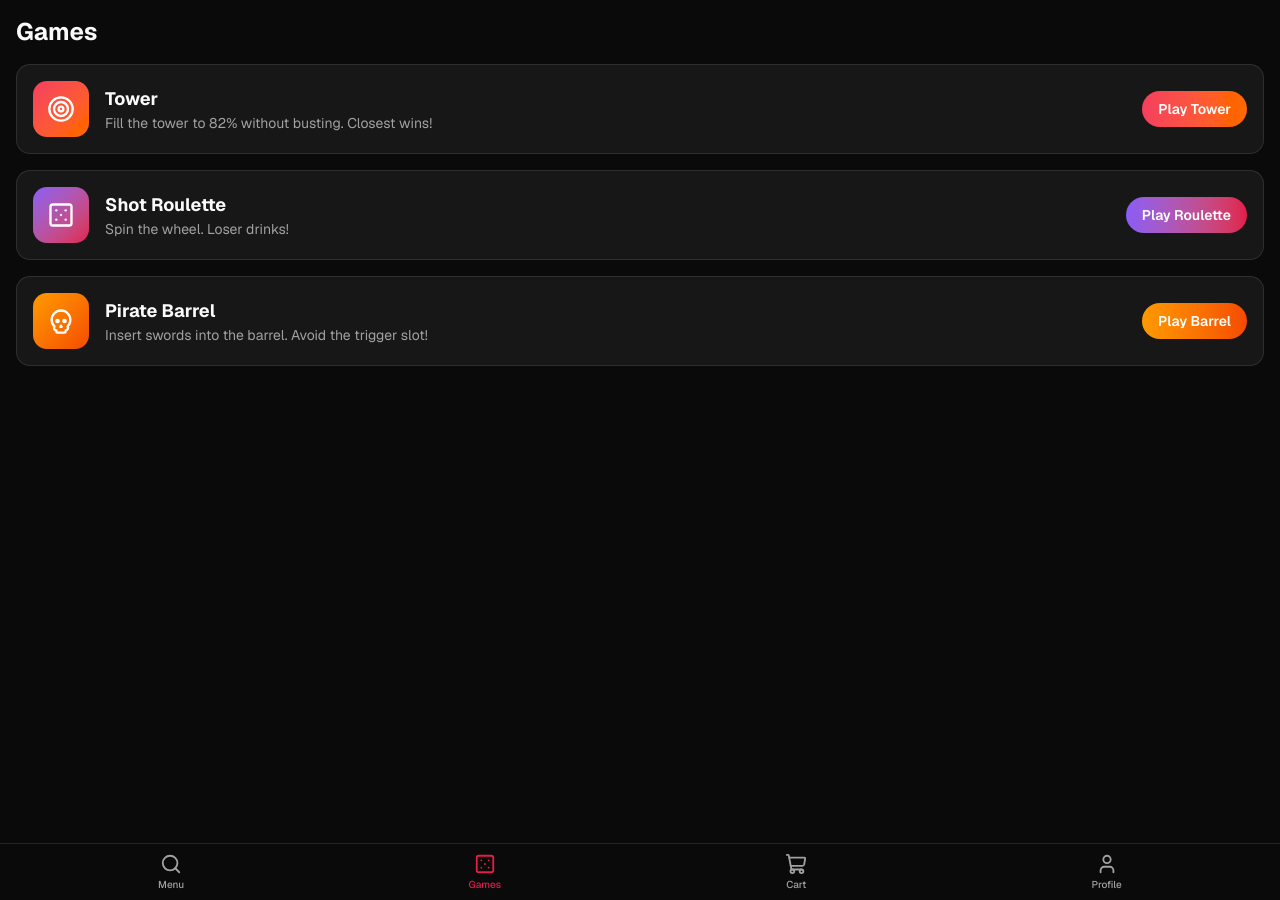
Test: opens bottom sheet and shows stepper
The image size is (1280, 900).
Click the text "Play Roulette" at {"x": 1186, "y": 215}, box [1126,197,1247,233]
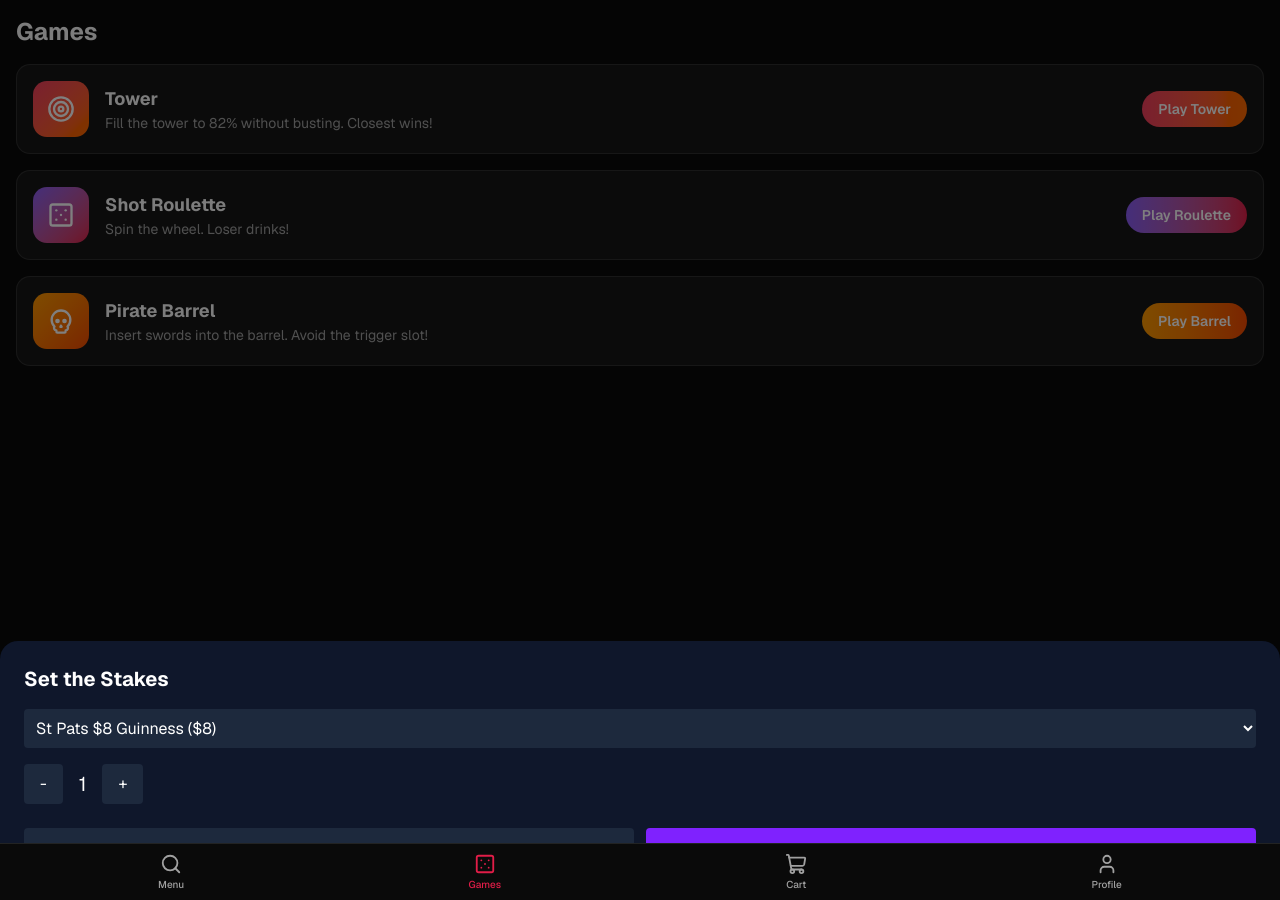
Result: the heading "Set the Stakes" is shown at [24,666,168,692]
Click the button "+" at {"x": 123, "y": 784}, box [102,764,143,804]
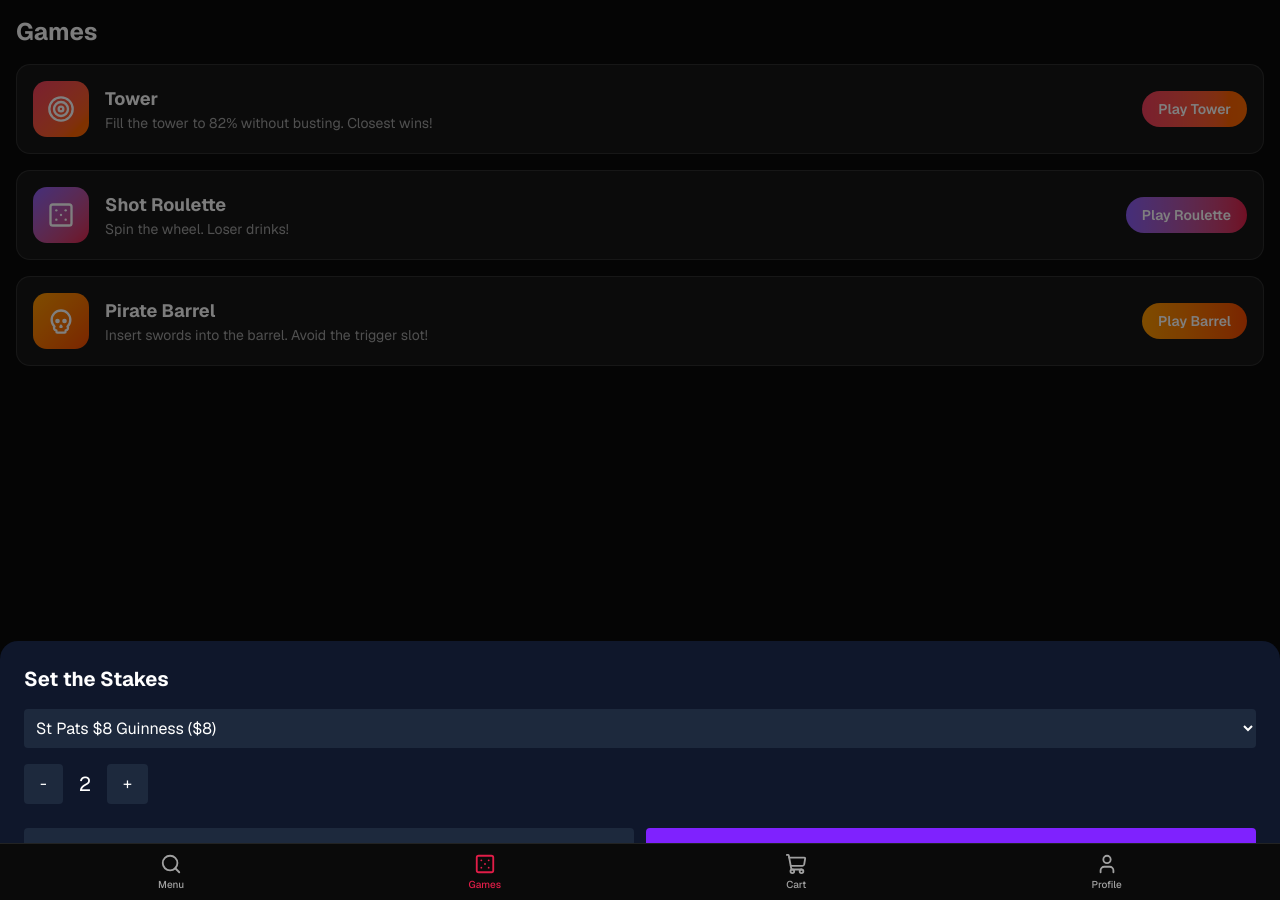
Result: the text "2" is shown at [79,770,91,798]
